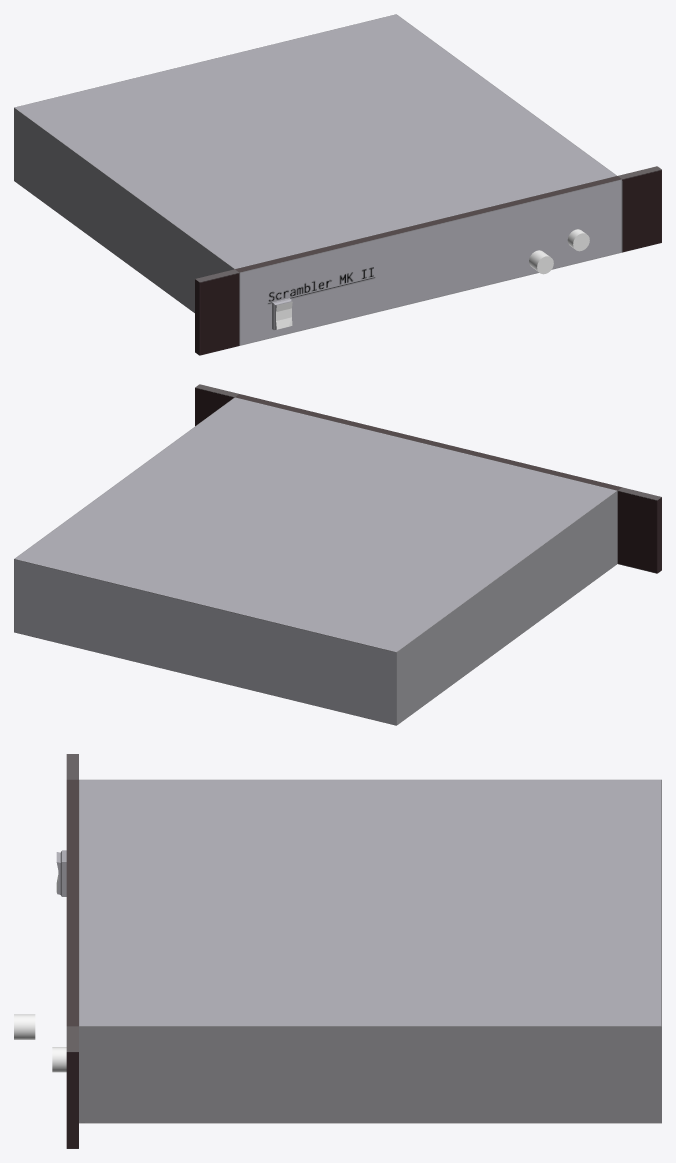
File: ScramblerMkII(d1).fbx
3 renders of one model, top to bottom at view 1: azimuth 30°, elevation 25°; view 2: azimuth 150°, elevation 25°; view 3: azimuth 270°, elevation 25°, orthographic. The views are drawn at different scales.
Visible parts, largest first — view 1: pCube1; view 2: pCube1; view 3: pCube1, pCylinder1.
Part boxes in pixels (x1,y1,x2,y2): pCube1: (14, 14, 661, 355); pCube1: (14, 384, 661, 725); pCube1: (66, 754, 661, 1148); pCylinder1: (14, 1014, 35, 1039).
Bounding box in the file's own units: 0.58 × 0.088 × 0.5334.
1 material, 1 textured.
